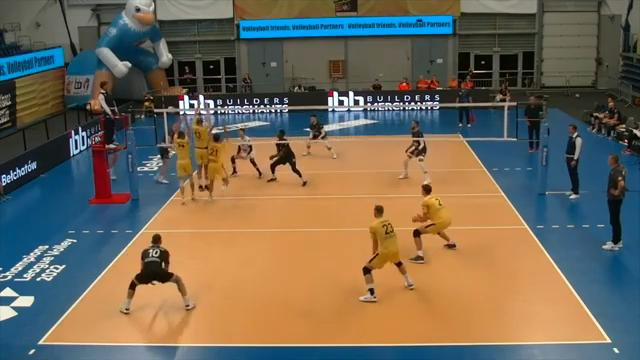muro: (165, 120, 197, 205), (184, 102, 213, 195), (200, 120, 235, 197)
